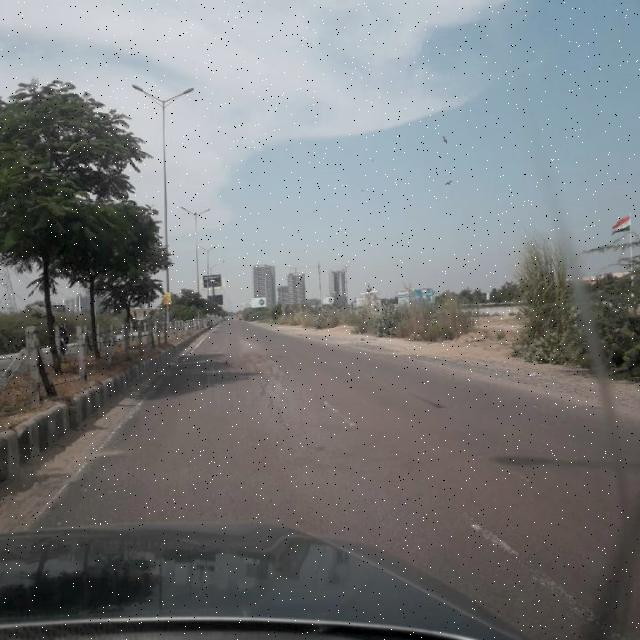D40: (242, 340, 297, 426)
D44: (460, 508, 620, 631), (38, 387, 160, 510), (313, 386, 362, 437)
